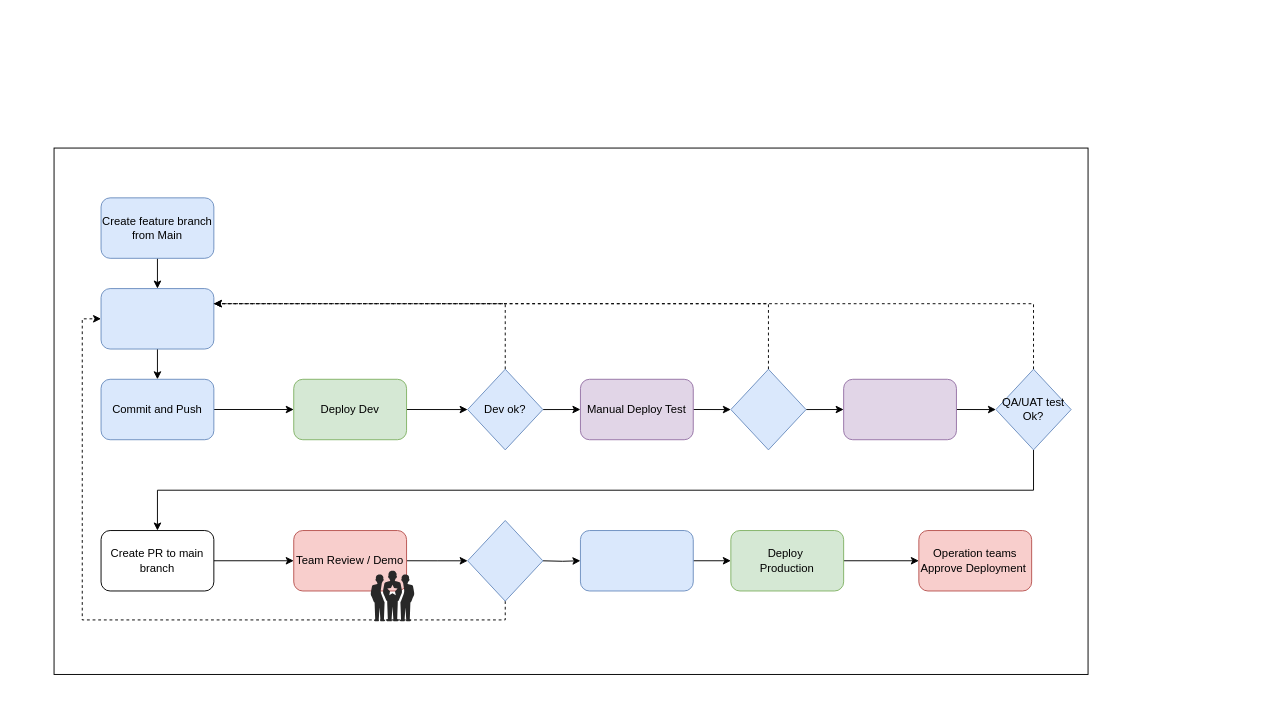
Image size: 1273x728. Some labels were removed from this diagram. The centre of each missing label's shape, as x and y in pixels:
Make changes: the point at 157,318
Manual Deploy Staging: the point at 899,409
Merge: the point at 636,560
Product owner approves: the point at 505,560
Test Ok?: the point at 768,409
